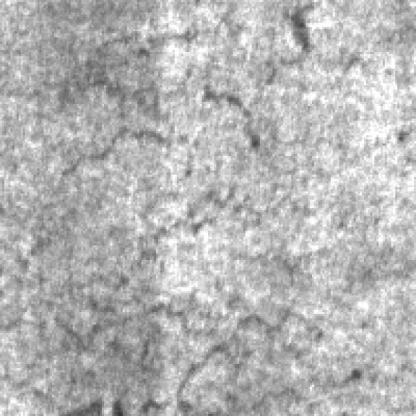crazing: (47, 0, 322, 177), (0, 268, 316, 409), (17, 166, 330, 279)
